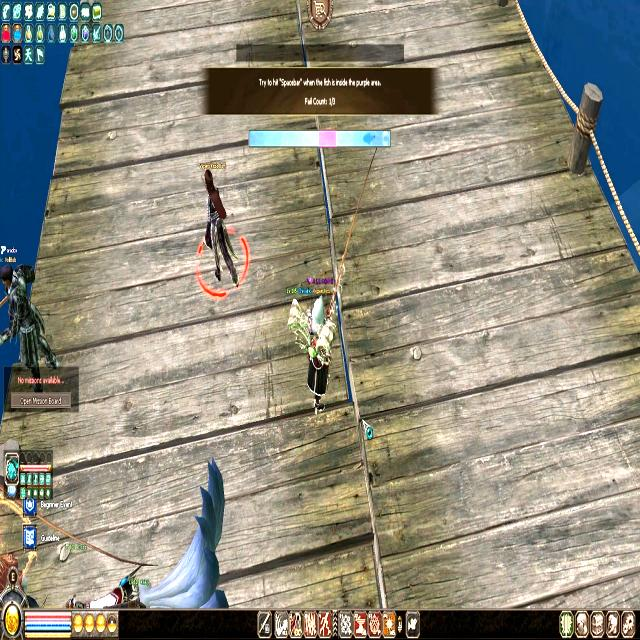fishes: (362, 132, 374, 146)
